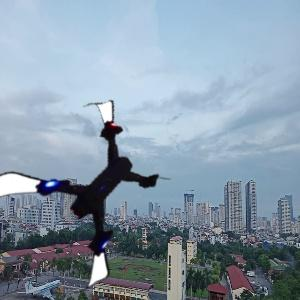drone: (5, 119, 173, 287)
